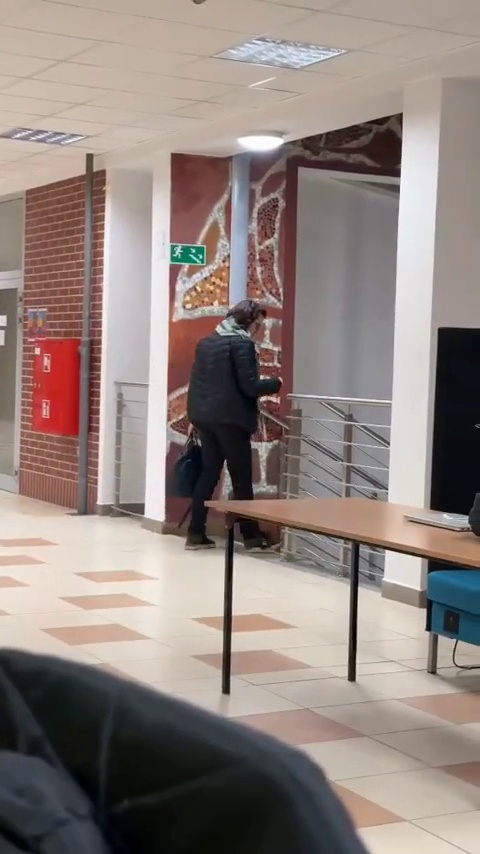no vest: (185, 300, 284, 558)
